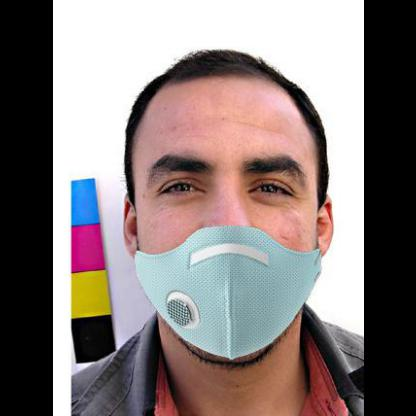FFP Mask: (117, 89, 344, 369)
